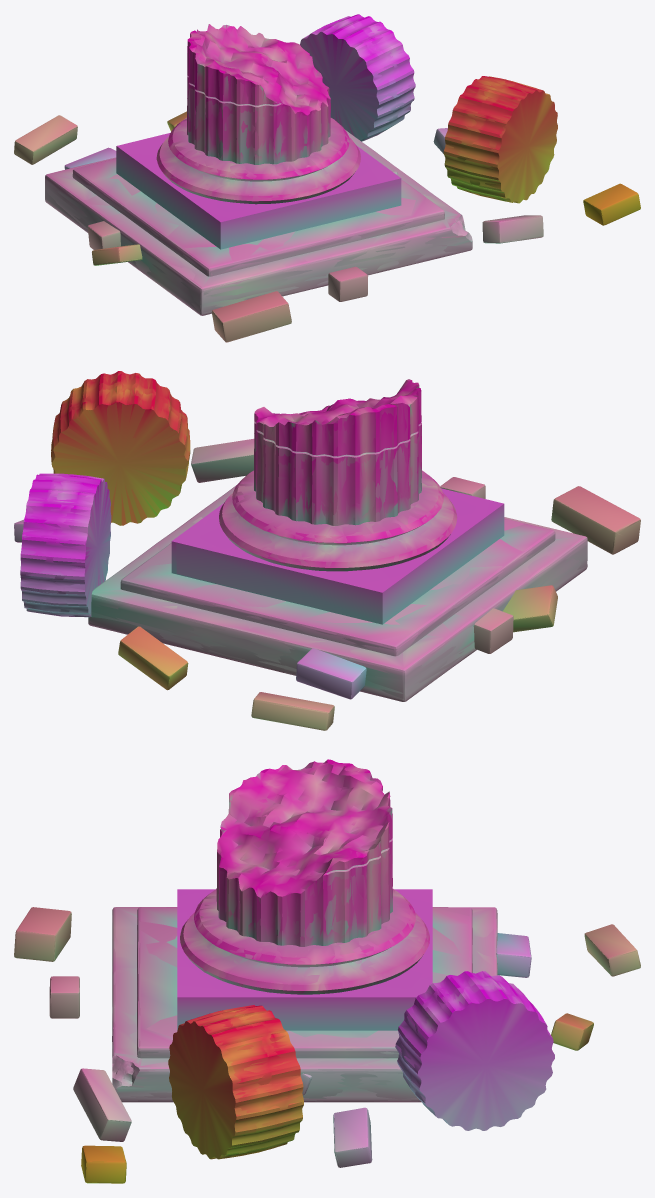
The model's file is colossal_statues.glb.
3 views of the same model, one above another, from view 1: azimuth 30°, elevation 25°; view 2: azimuth 150°, elevation 25°; view 3: azimuth 270°, elevation 25° (orthographic). The views are drawn at different scales.
Visible parts, largest first — view 1: GiantBase, GiantBase_lod; view 2: GiantBase, GiantBase_lod; view 3: GiantBase, GiantBase_lod.
Boxes of the visible parts, bbox=[...] form: GiantBase: bbox=[14, 14, 640, 342]; GiantBase_lod: bbox=[14, 14, 639, 342]; GiantBase: bbox=[14, 371, 640, 730]; GiantBase_lod: bbox=[14, 371, 640, 730]; GiantBase: bbox=[14, 759, 640, 1183]; GiantBase_lod: bbox=[14, 761, 640, 1183].
Size of the model in its own units: 24.05 by 9.27 by 22.8.
